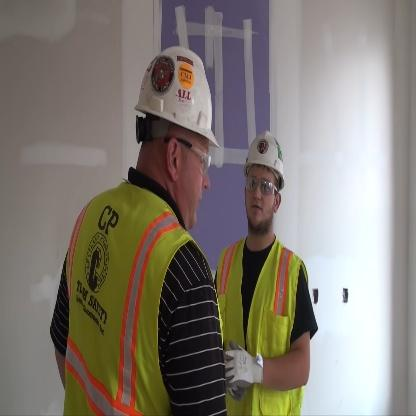helmet: (130, 42, 219, 227), (232, 133, 283, 235)
